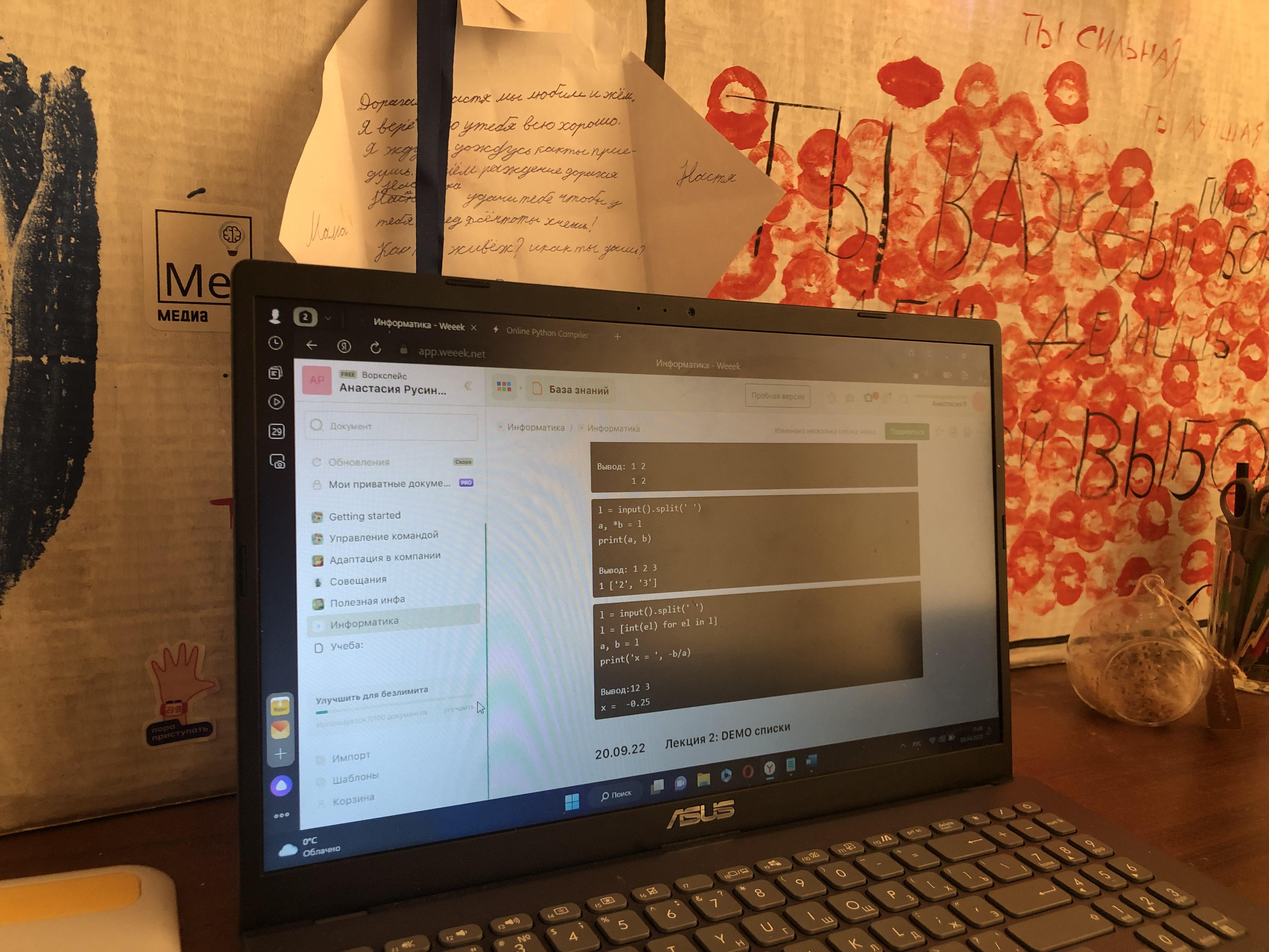monitor: (229, 257, 1020, 939)
